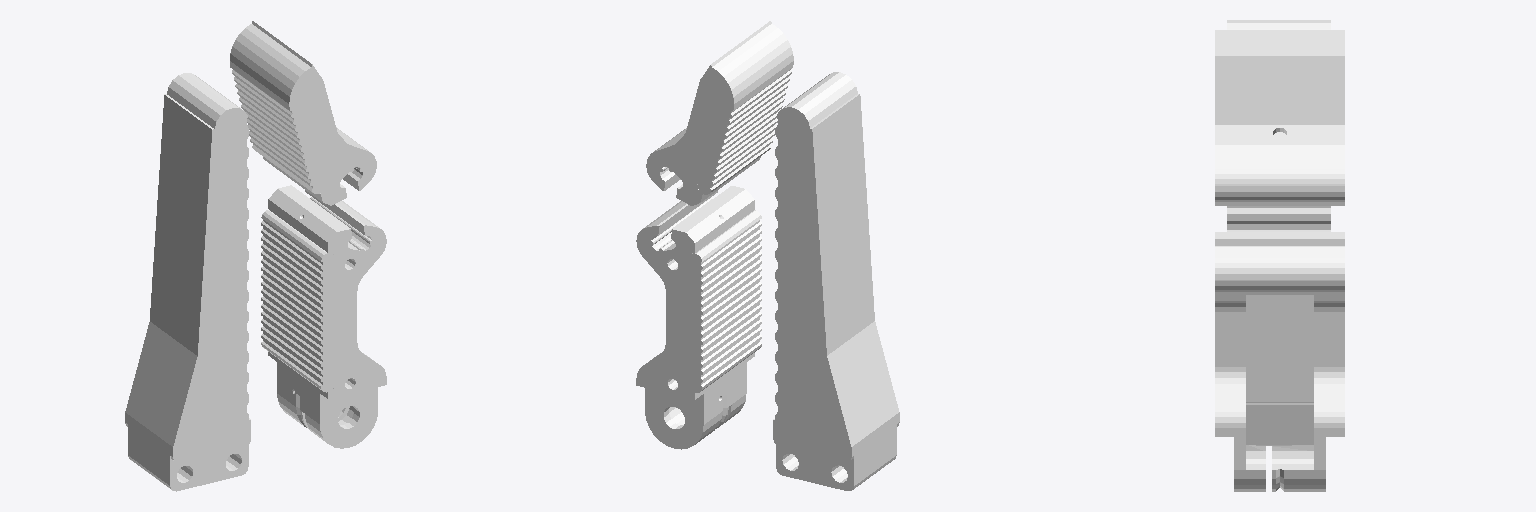
robot.urdf — hand_m2:
<?xml version="1.0" encoding="utf-8"?>
<!-- This URDF was automatically created by SolidWorks to URDF Exporter! Originally created by Stephen Brawner (brawner@gmail.com) 
     Commit Version: 1.6.0-4-g7f85cfe  Build Version: 1.6.7995.38578
     For more information, please see http://wiki.ros.org/sw_urdf_exporter -->
<robot
  name="hand_m2">
  <link
    name="base_link">
    <inertial>
      <origin
        xyz="-0.00212247742799092 -0.000190346088314234 0.0260775069783168"
        rpy="0 0 0" />
      <mass
        value="0.295146641644412" />
      <inertia
        ixx="0.000178243417317915"
        ixy="2.23929548427028E-07"
        ixz="4.6547677481535E-07"
        iyy="0.000187477211048145"
        iyz="1.39877697128628E-09"
        izz="0.000342638785654023" />
    </inertial>
    <visual>
      <origin
        xyz="0 0 0"
        rpy="0 0 0" />
      <geometry>
        <mesh
          filename="package://hand_m2/meshes/base_link.STL" />
      </geometry>
      <material
        name="">
        <color
          rgba="0.792156862745098 0.819607843137255 0.933333333333333 1" />
      </material>
    </visual>
    <collision>
      <origin
        xyz="0 0 0"
        rpy="0 0 0" />
      <geometry>
        <mesh
          filename="package://hand_m2/meshes/base_link.STL" />
      </geometry>
    </collision>
  </link>
  <link
    name="l_0">
    <inertial>
      <origin
        xyz="-1.76461147495905E-05 0.00369264198596364 -0.0280715613687438"
        rpy="0 0 0" />
      <mass
        value="0.0209133032925023" />
      <inertia
        ixx="7.44762302304462E-06"
        ixy="-6.95412504584306E-10"
        ixz="1.15937578391567E-08"
        iyy="8.96894755720361E-06"
        iyz="-1.48298587310708E-08"
        izz="2.24744851625388E-06" />
    </inertial>
    <visual>
      <origin
        xyz="0 0 0"
        rpy="0 0 0" />
      <geometry>
        <mesh
          filename="package://hand_m2/meshes/l_0.STL" />
      </geometry>
      <material
        name="">
        <color
          rgba="1 1 1 1" />
      </material>
    </visual>
    <collision>
      <origin
        xyz="0 0 0"
        rpy="0 0 0" />
      <geometry>
        <mesh
          filename="package://hand_m2/meshes/l_0.STL" />
      </geometry>
    </collision>
  </link>
  <joint
    name="l_0"
    type="revolute">
    <origin
      xyz="0.01935 7.5E-05 0.067213"
      rpy="-3.1416 0 -1.5708" />
    <parent
      link="base_link" />
    <child
      link="l_0" />
    <axis
      xyz="-1 0 0" />
    <limit
      lower="0"
      upper="0"
      effort="0"
      velocity="0" />
  </joint>
  <link
    name="l_1">
    <inertial>
      <origin
        xyz="1.34170018845081E-18 0.0100976493826253 -0.0227215465332642"
        rpy="0 0 0" />
      <mass
        value="0.0171940446900973" />
      <inertia
        ixx="2.33586018272412E-06"
        ixy="-2.37584774154065E-22"
        ixz="3.24491505112242E-22"
        iyy="3.36239984843884E-06"
        iyz="5.98339424688533E-07"
        izz="1.84917878063005E-06" />
    </inertial>
    <visual>
      <origin
        xyz="0 0 0"
        rpy="0 0 0" />
      <geometry>
        <mesh
          filename="package://hand_m2/meshes/l_1.STL" />
      </geometry>
      <material
        name="">
        <color
          rgba="1 1 1 1" />
      </material>
    </visual>
    <collision>
      <origin
        xyz="0 0 0"
        rpy="0 0 0" />
      <geometry>
        <mesh
          filename="package://hand_m2/meshes/l_1.STL" />
      </geometry>
    </collision>
  </link>
  <joint
    name="l_1"
    type="revolute">
    <origin
      xyz="0 0 -0.0625"
      rpy="0 0 0" />
    <parent
      link="l_0" />
    <child
      link="l_1" />
    <axis
      xyz="1 0 0" />
    <limit
      lower="0"
      upper="0"
      effort="0"
      velocity="0" />
  </joint>
  <link
    name="r_0">
    <inertial>
      <origin
        xyz="-1.05167610731094E-17 -0.0475872512707244 0.00275327699688915"
        rpy="0 0 0" />
      <mass
        value="0.0431334338592739" />
      <inertia
        ixx="3.60867268331495E-05"
        ixy="-1.63790357028475E-20"
        ixz="1.99489286510396E-21"
        iyy="3.07251377814637E-06"
        iyz="9.19374856983616E-07"
        izz="3.75923298614849E-05" />
    </inertial>
    <visual>
      <origin
        xyz="0 0 0"
        rpy="0 0 0" />
      <geometry>
        <mesh
          filename="package://hand_m2/meshes/r_0.STL" />
      </geometry>
      <material
        name="">
        <color
          rgba="1 1 1 1" />
      </material>
    </visual>
    <collision>
      <origin
        xyz="0 0 0"
        rpy="0 0 0" />
      <geometry>
        <mesh
          filename="package://hand_m2/meshes/r_0.STL" />
      </geometry>
    </collision>
  </link>
  <joint
    name="r_0"
    type="fixed">
    <origin
      xyz="-0.023575 -0.000225 0.057863"
      rpy="-1.5708 0 -1.5708" />
    <parent
      link="base_link" />
    <child
      link="r_0" />
    <axis
      xyz="0 0 0" />
  </joint>
</robot>

--- Facts derived from the render (not from the file) ---
Views: 3 orthographic renders of the robot side by side, from view 1: azimuth 30°, elevation 25°; view 2: azimuth 150°, elevation 25°; view 3: azimuth 270°, elevation 25°.
Robot: hand_m2 — 4 links, 3 joints (2 revolute, 1 fixed); root link base_link; default pose: all joints at 0.
Visible links, largest first — view 1: r_0, l_0, l_1; view 2: r_0, l_0, l_1; view 3: l_0, l_1, r_0.
Boxes of the visible links, bbox=[...] form: r_0: bbox=[125, 73, 250, 491]; l_0: bbox=[261, 185, 386, 448]; l_1: bbox=[230, 21, 376, 205]; r_0: bbox=[773, 72, 899, 490]; l_0: bbox=[636, 186, 761, 449]; l_1: bbox=[646, 21, 793, 205]; l_0: bbox=[1215, 232, 1344, 491]; l_1: bbox=[1215, 30, 1344, 205]; r_0: bbox=[1227, 20, 1330, 231].
Size in the robot's own frame: 0.0639 by 0.0318 by 0.118 metres.
3 mesh visuals loaded from 4 distinct referenced files (3 binary STL); not drawn: 1 (reference not matched to a file when rendering).
